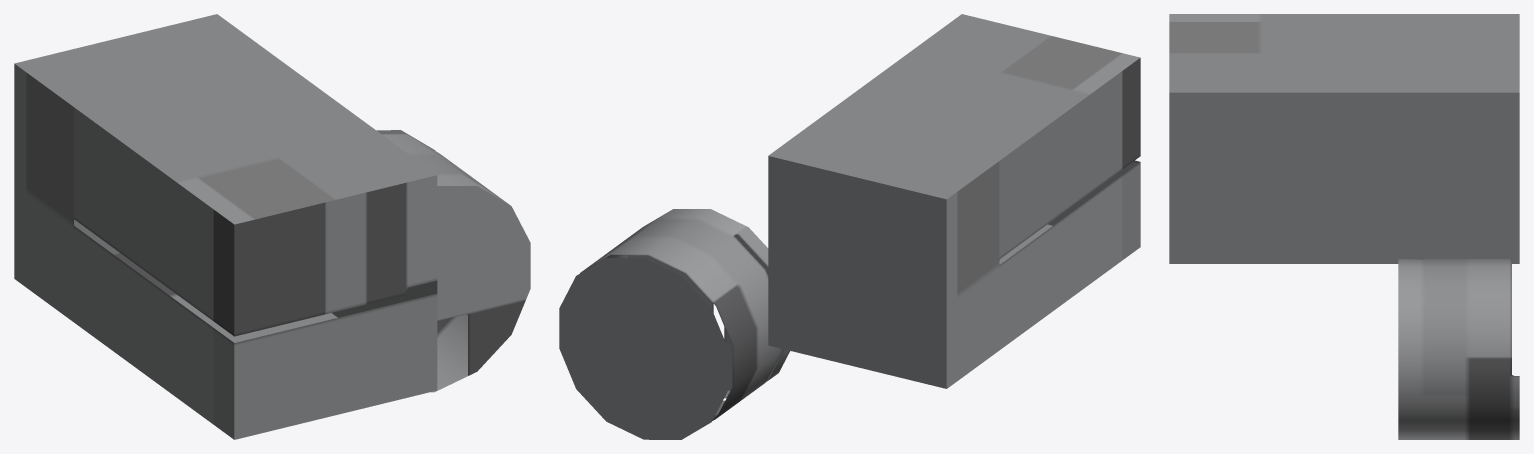
3 renders of one model, left to right at view 1: azimuth 30°, elevation 25°; view 2: azimuth 150°, elevation 25°; view 3: azimuth 270°, elevation 25°, orthographic. The views are drawn at different scales.
Bounding box in the file's own units: 0.6563 × 0.5086 × 0.5685.
